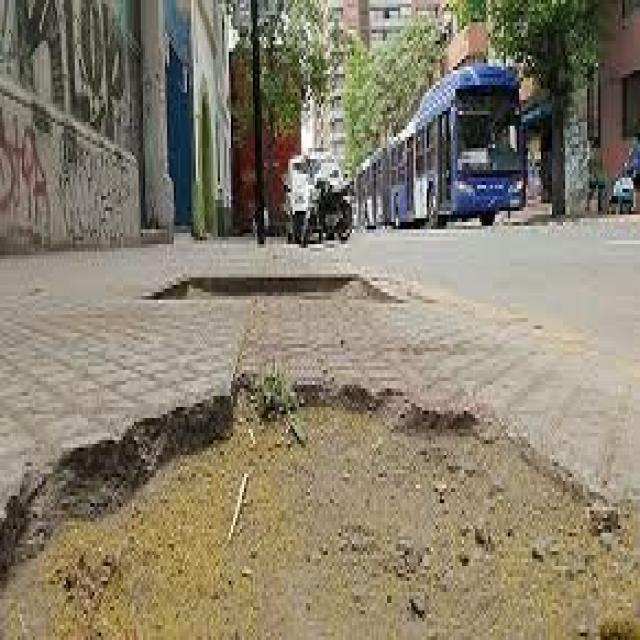Buraco: (0, 370, 640, 640), (136, 272, 409, 305)
